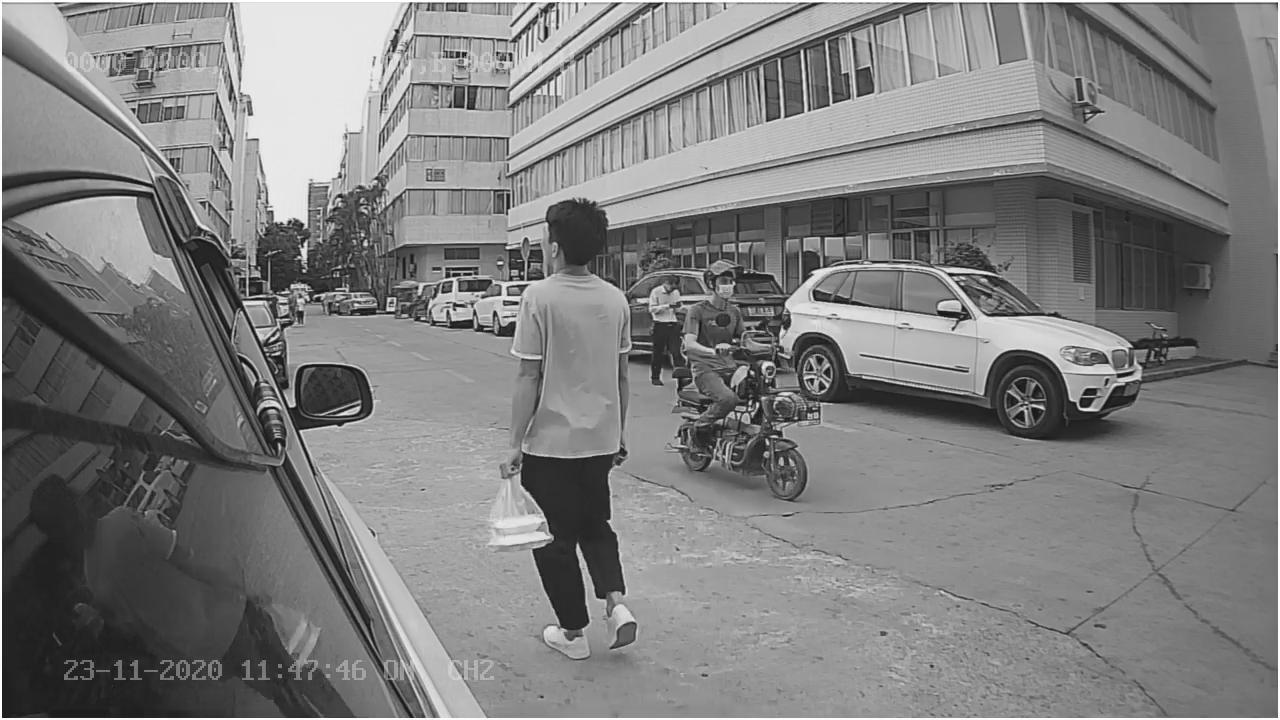person: (495, 194, 640, 659)
